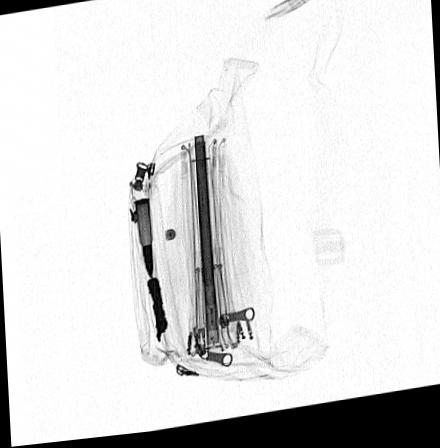Bullet: (134, 202, 152, 283)
Gun: (147, 281, 167, 346)
